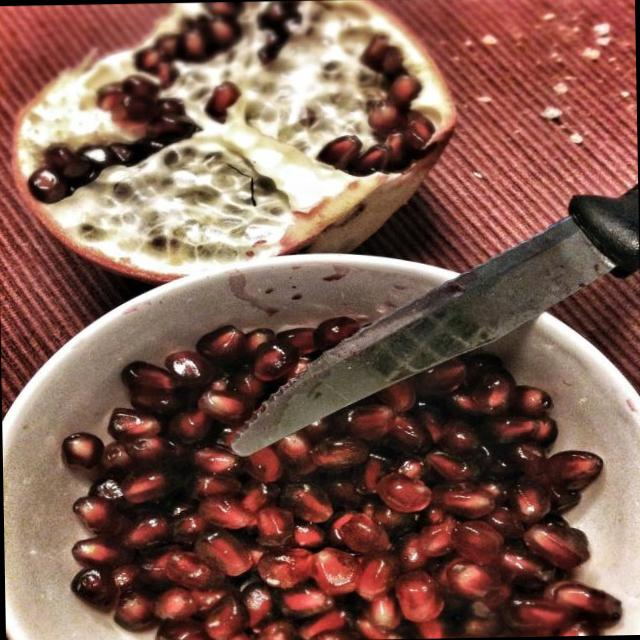Knife: (231, 186, 639, 456)
